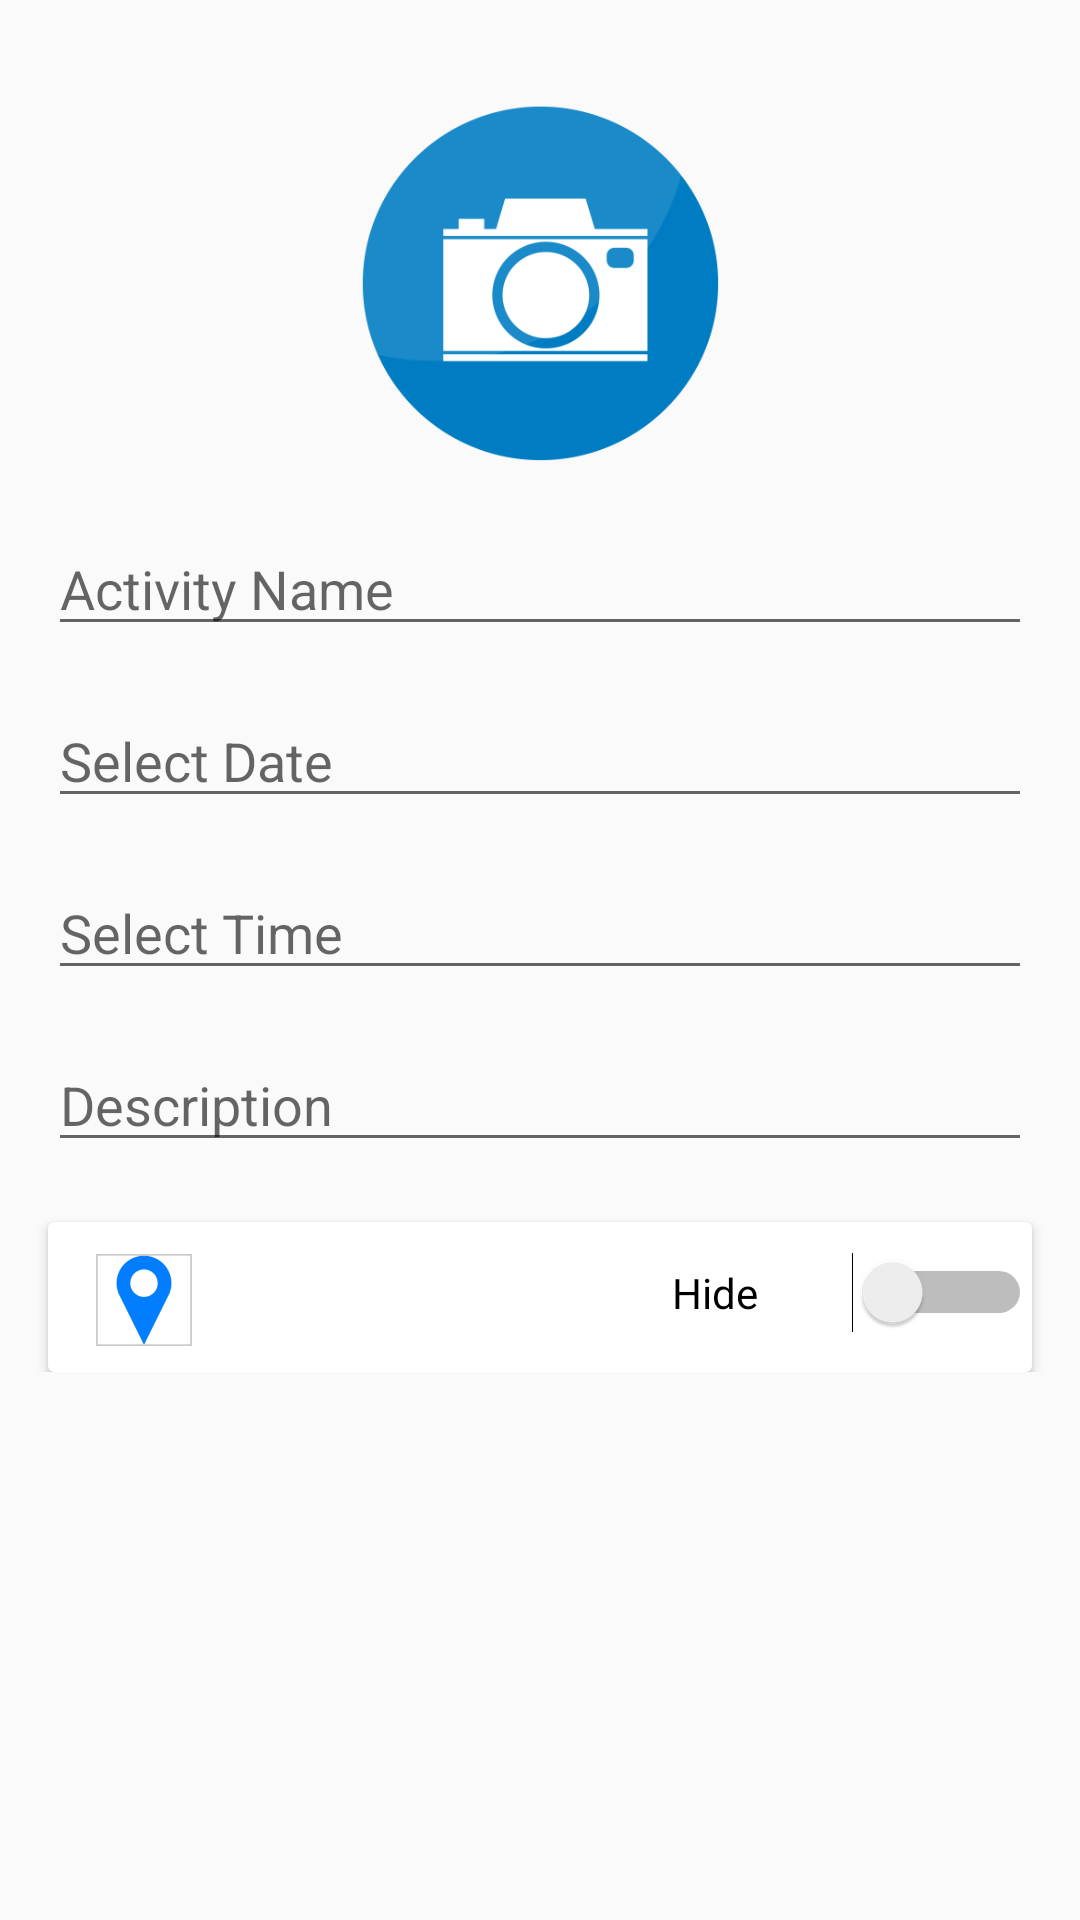

Named icons in this screenshot (1080*1920) and their centers, point (x, y):
camera: point (540, 283)
location pin: point (144, 1300)
